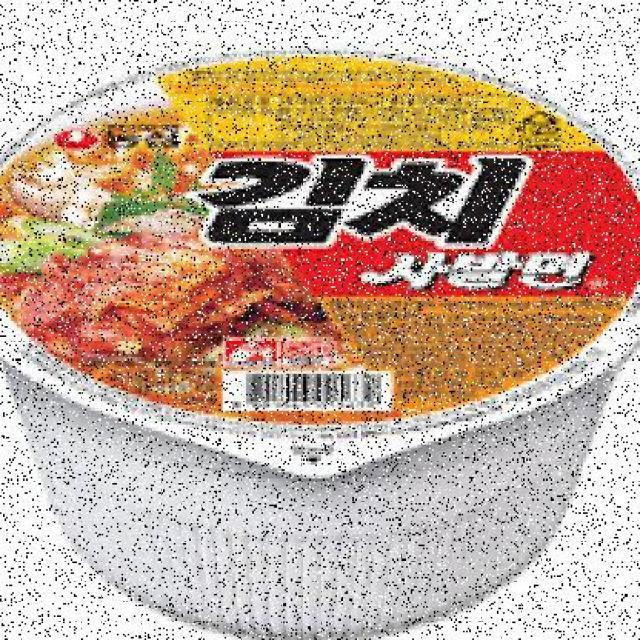Miscellaneous: (0, 40, 640, 637)
